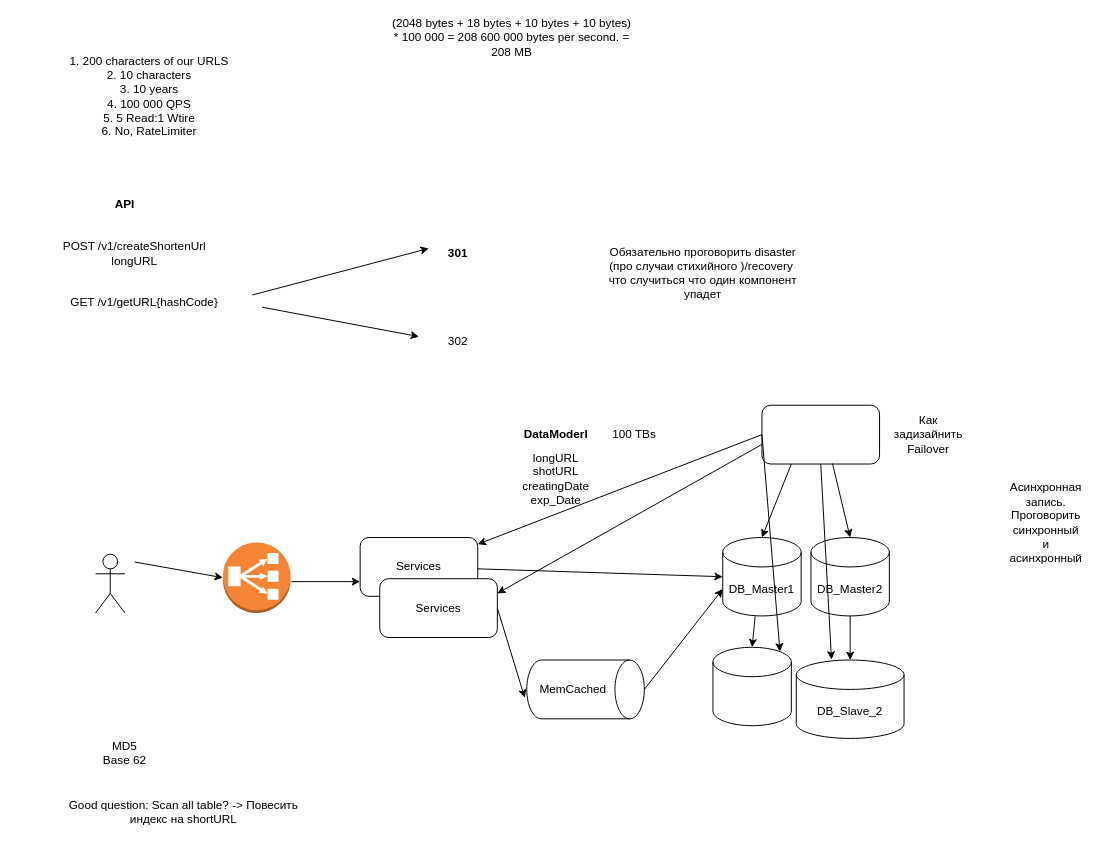
Image size: 1099x844. Some labels were removed from this diagram. The shapes that lost their labels are listed below. From the top down, each one's centre as x and y in pixels, then its label:
At (820,434): "Failover".
At (110,583): "Actor".
At (751,686): "DB_Slave_1".
